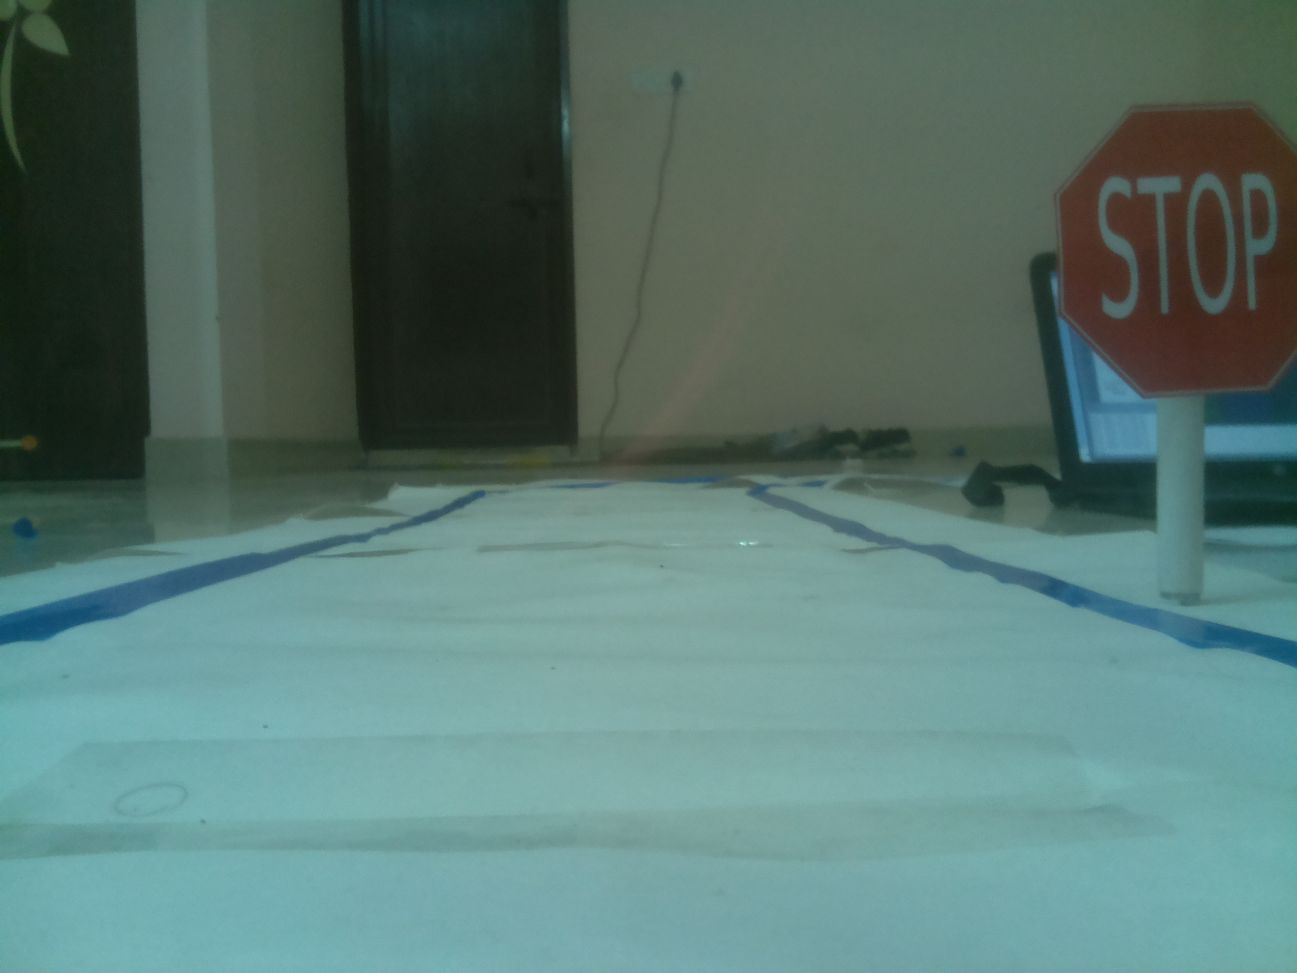stop: (1062, 102, 1297, 392)
